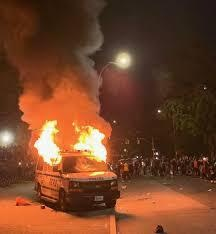fire: (33, 118, 109, 166), (34, 118, 62, 165)
